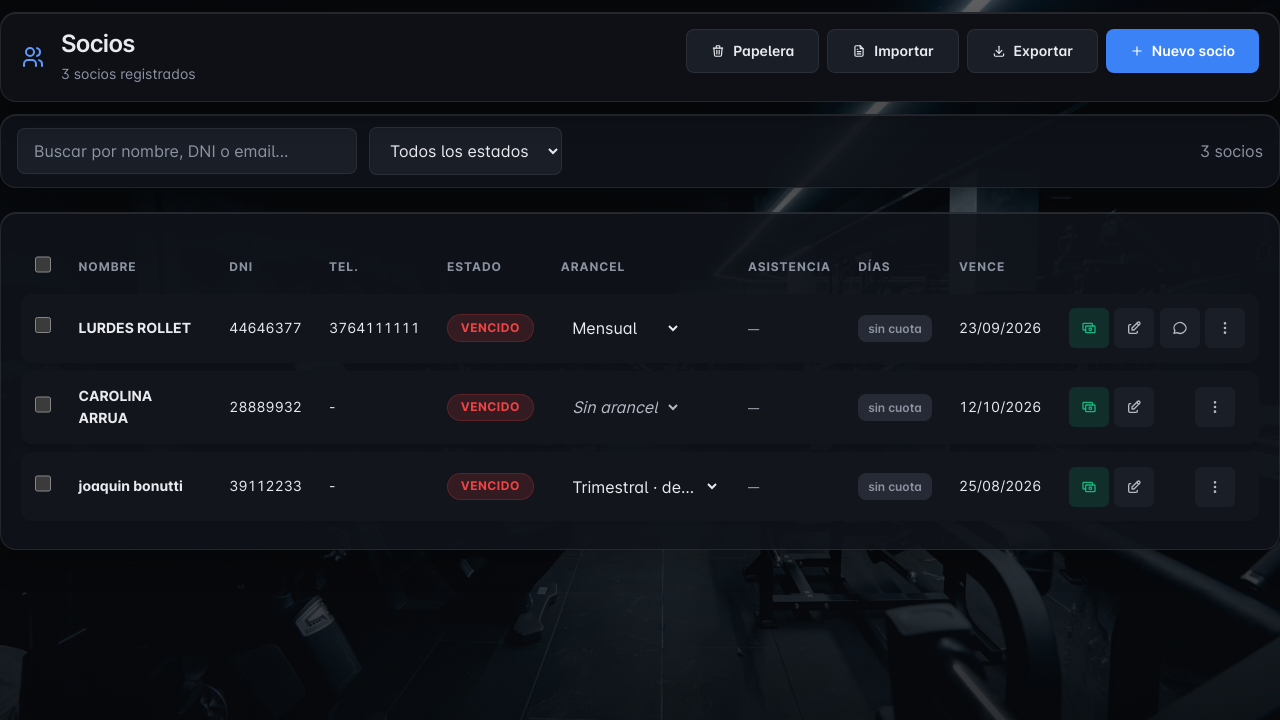
Scenario: asignar el arancel a muchos de una vez › elegir el arancel NO lo aplica: pregunta primero
This screenshot has width=1280, height=720.
Click the checkbox named "Seleccionar a LURDES ROLLET".
click(43, 325)  # box [35, 317, 51, 333]
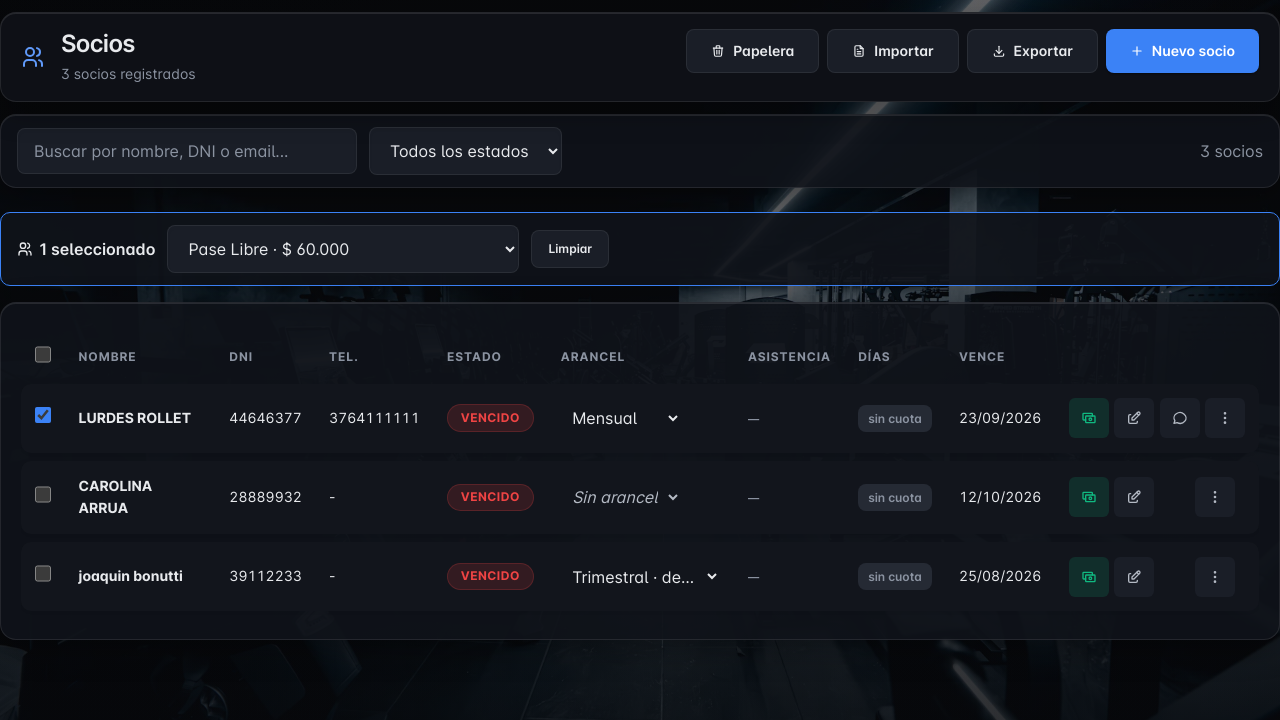
Select "Pase Libre · $ 60.000" in the dropdown with class "seleccion-arancel" at (343, 249), box [167, 225, 519, 273]
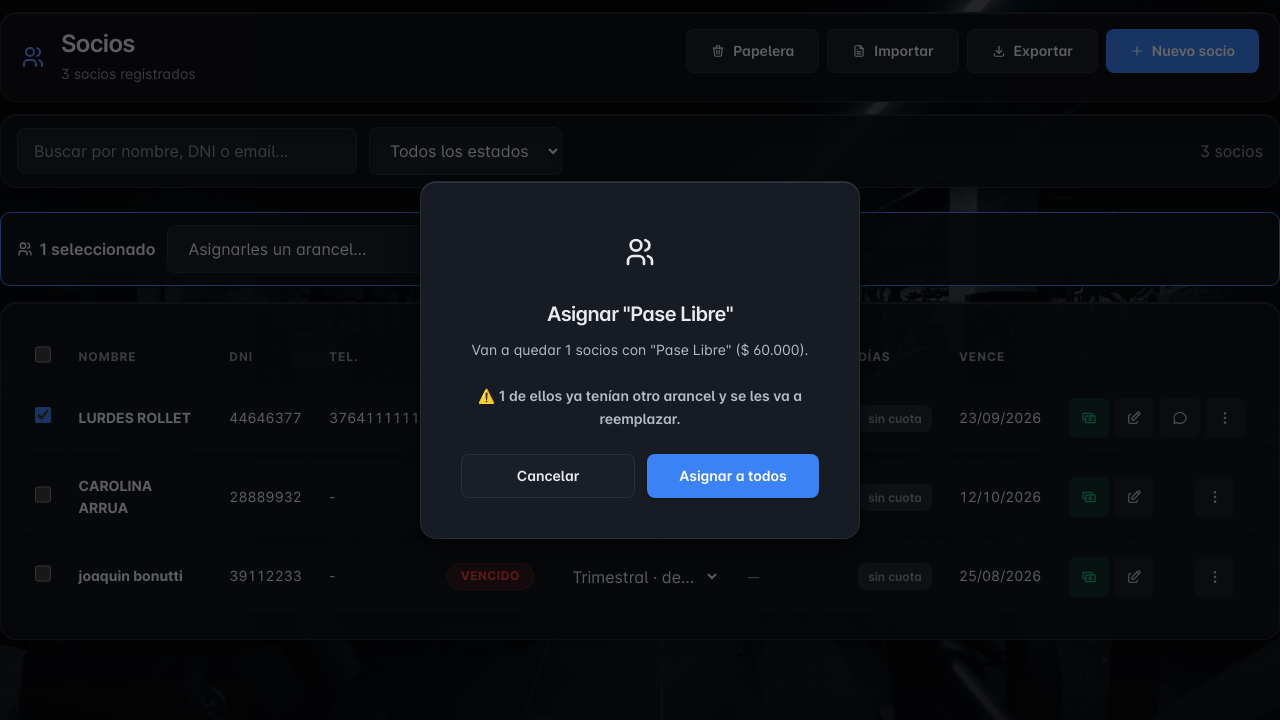
Now the text "Asignar" is shown, box [547, 302, 733, 326]
